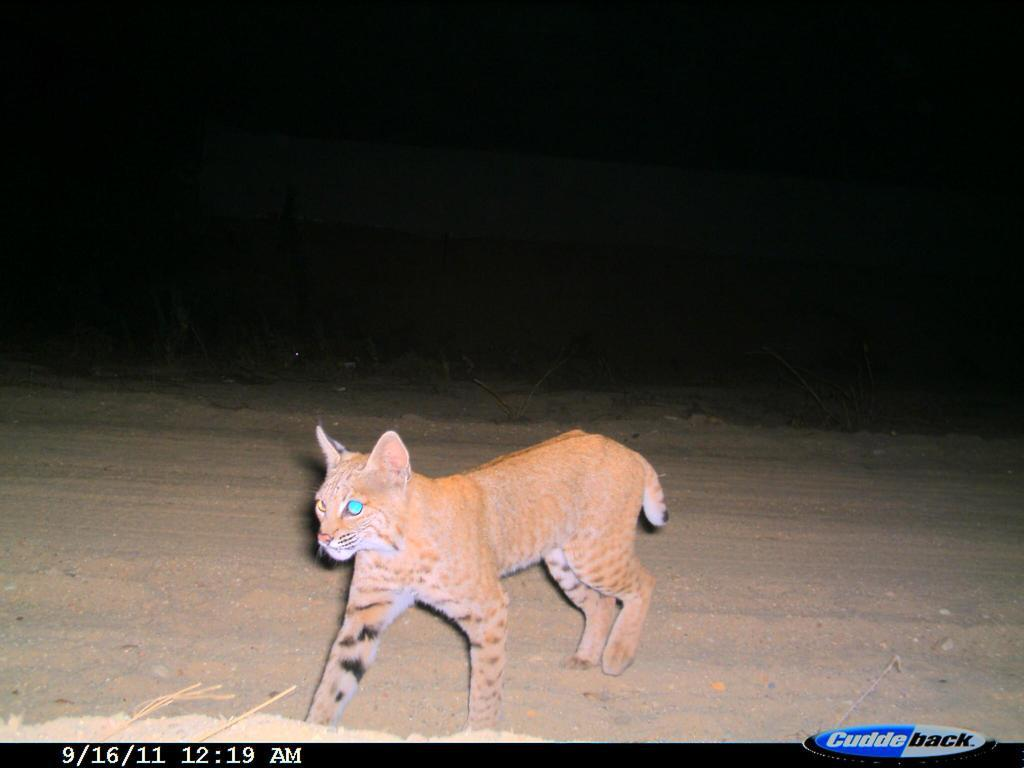bobcat: (292, 415, 679, 745)
